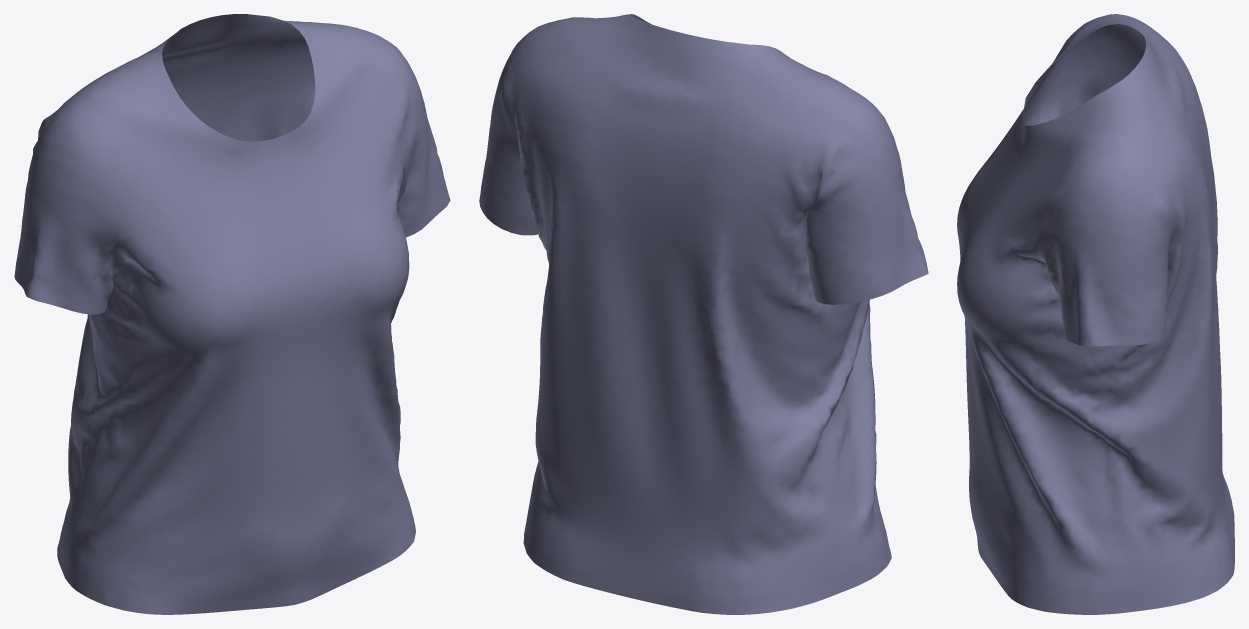
3 views of the same model, side by side, from view 1: azimuth 30°, elevation 25°; view 2: azimuth 150°, elevation 25°; view 3: azimuth 270°, elevation 25° (orthographic). The views are drawn at different scales.
Parts seen in each view (by area): view 1: Body_Front (×2), Body_Back (×2), Sleeves (×2), Ribbing (×2); view 2: Body_Back (×2), Sleeves (×2), Body_Front, Ribbing; view 3: Body_Front (×2), Body_Back (×2), Sleeves (×2), Ribbing (×2).
Part boxes in pixels (<box>): Body_Front (×2): <box>68,37,415,614</box>; Body_Back (×2): <box>45,20,401,581</box>; Sleeves (×2): <box>14,48,450,314</box>; Ribbing (×2): <box>148,14,327,155</box>; Body_Back (×2): <box>504,16,871,614</box>; Sleeves (×2): <box>479,39,928,304</box>; Body_Front: <box>786,56,891,582</box>; Ribbing: <box>616,14,785,56</box>; Body_Front (×2): <box>957,17,1108,614</box>; Body_Back (×2): <box>1089,14,1234,614</box>; Sleeves (×2): <box>1038,24,1171,346</box>; Ribbing (×2): <box>1021,23,1152,139</box>.
Size of the model in its own units: 47.74 by 56.21 by 28.1.
